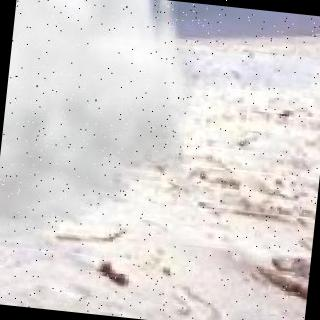smoke: (0, 0, 237, 237)
